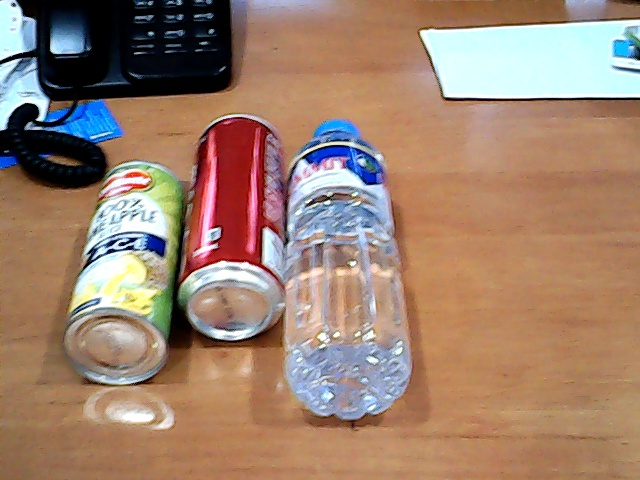Cola: (172, 112, 295, 350)
Pine Juice: (58, 159, 193, 381)
Summit Water: (276, 101, 423, 436)
